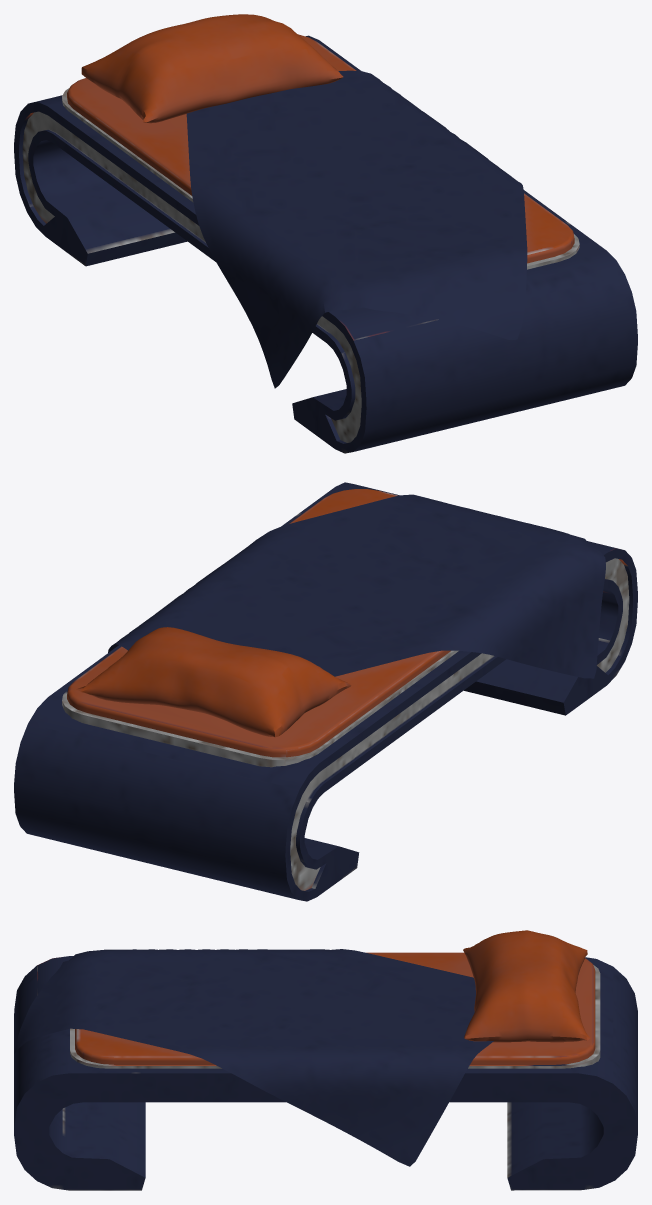
Rendered from bed.fbx.
3 renders of one model, top to bottom at view 1: azimuth 30°, elevation 25°; view 2: azimuth 150°, elevation 25°; view 3: azimuth 270°, elevation 25°, orthographic. The views are drawn at different scales.
Parts seen in each view (by area): view 1: Cube.015; view 2: Cube.015; view 3: Cube.015.
Part boxes in pixels (left/top/right/bottom): Cube.015: left=14, top=14, right=637, bottom=453; Cube.015: left=14, top=482, right=637, bottom=901; Cube.015: left=14, top=930, right=637, bottom=1190.
Bounding box in the file's own units: 377 × 222 × 720.
